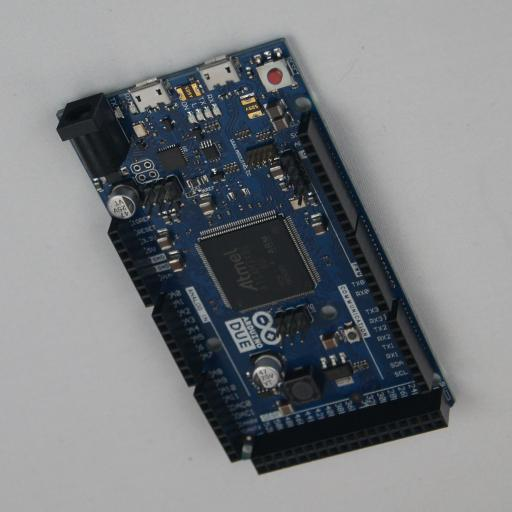Arduino Due: (56, 38, 455, 474)
